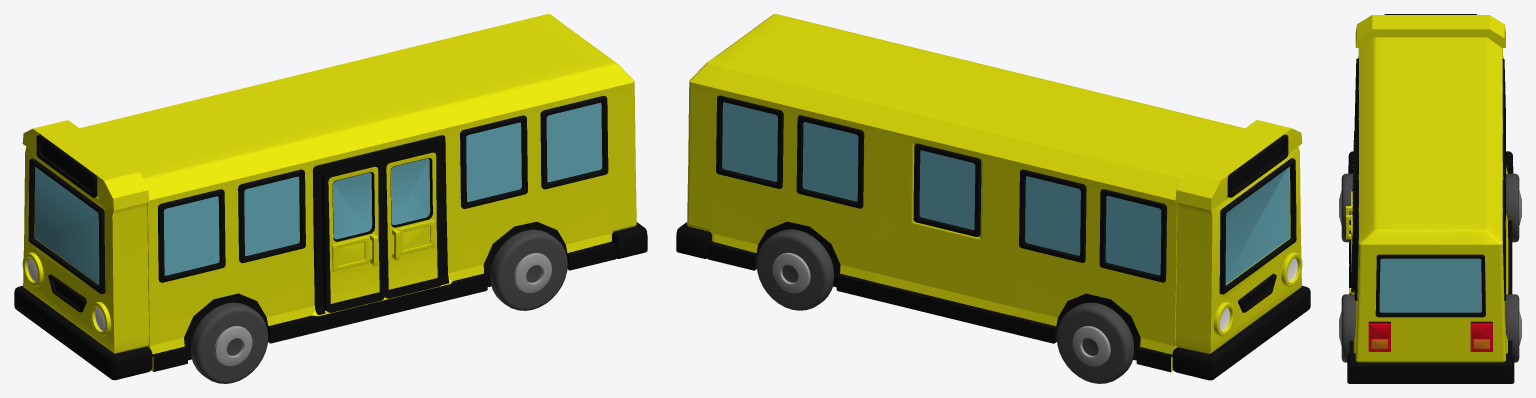
Rendered from bus 1.fbx.
3 views of the same model, side by side, from view 1: azimuth 30°, elevation 25°; view 2: azimuth 150°, elevation 25°; view 3: azimuth 270°, elevation 25° (orthographic). The views are drawn at different scales.
Parts seen in each view (by area): view 1: bus, kapak, door_2, door_1, wheels.004, wheels.001; view 2: bus, kapak, wheels.003, wheels.002; view 3: kapak, bus, wheels.004, wheels.002, wheels.003, door_1, wheels.001, door_2.
Boxes of the visible parts, x1=… form: bus: x1=14, y1=82, x2=647, y2=380; kapak: x1=80, y1=14, x2=634, y2=200; door_2: x1=321, y1=160, x2=384, y2=312; door_1: x1=378, y1=145, x2=442, y2=298; wheels.004: x1=490, y1=229, x2=567, y2=310; wheels.001: x1=191, y1=302, x2=268, y2=383; bus: x1=676, y1=82, x2=1310, y2=380; kapak: x1=689, y1=14, x2=1244, y2=200; wheels.003: x1=1056, y1=302, x2=1133, y2=383; wheels.002: x1=756, y1=229, x2=833, y2=310; kapak: x1=1359, y1=37, x2=1502, y2=244; bus: x1=1347, y1=14, x2=1514, y2=383; wheels.004: x1=1339, y1=294, x2=1356, y2=362; wheels.002: x1=1505, y1=294, x2=1521, y2=362; wheels.003: x1=1505, y1=173, x2=1521, y2=242; door_1: x1=1346, y1=154, x2=1357, y2=287; wheels.001: x1=1339, y1=173, x2=1352, y2=242; door_2: x1=1346, y1=131, x2=1357, y2=264.
Size of the model in its own units: 193 by 74.99 by 69.27.
